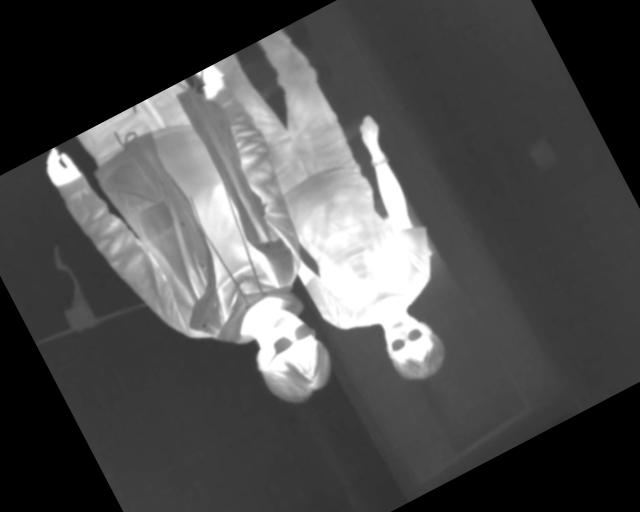face: (237, 298, 343, 415), (370, 299, 453, 391)
